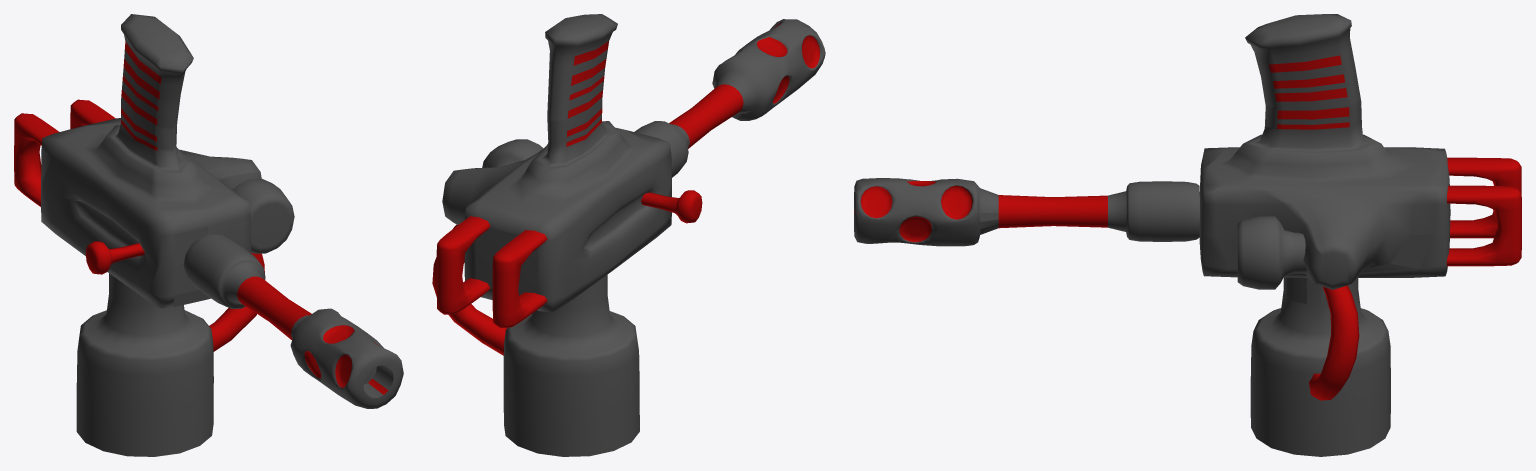
File: BasicTurret1.fbx
The picture shows the model from 3 angles, left to right: view 1: azimuth 30°, elevation 25°; view 2: azimuth 150°, elevation 25°; view 3: azimuth 270°, elevation 25°; orthographic projection.
Visible parts, largest first — view 1: MGun_L02_Turret; view 2: MGun_L02_Turret; view 3: MGun_L02_Turret.
Boxes of the visible parts, <box> form: MGun_L02_Turret: <box>14,14,403,456</box>; MGun_L02_Turret: <box>432,14,825,456</box>; MGun_L02_Turret: <box>854,14,1521,456</box>.
Bounding box in the file's own units: 27.56 × 49.24 × 72.57.
